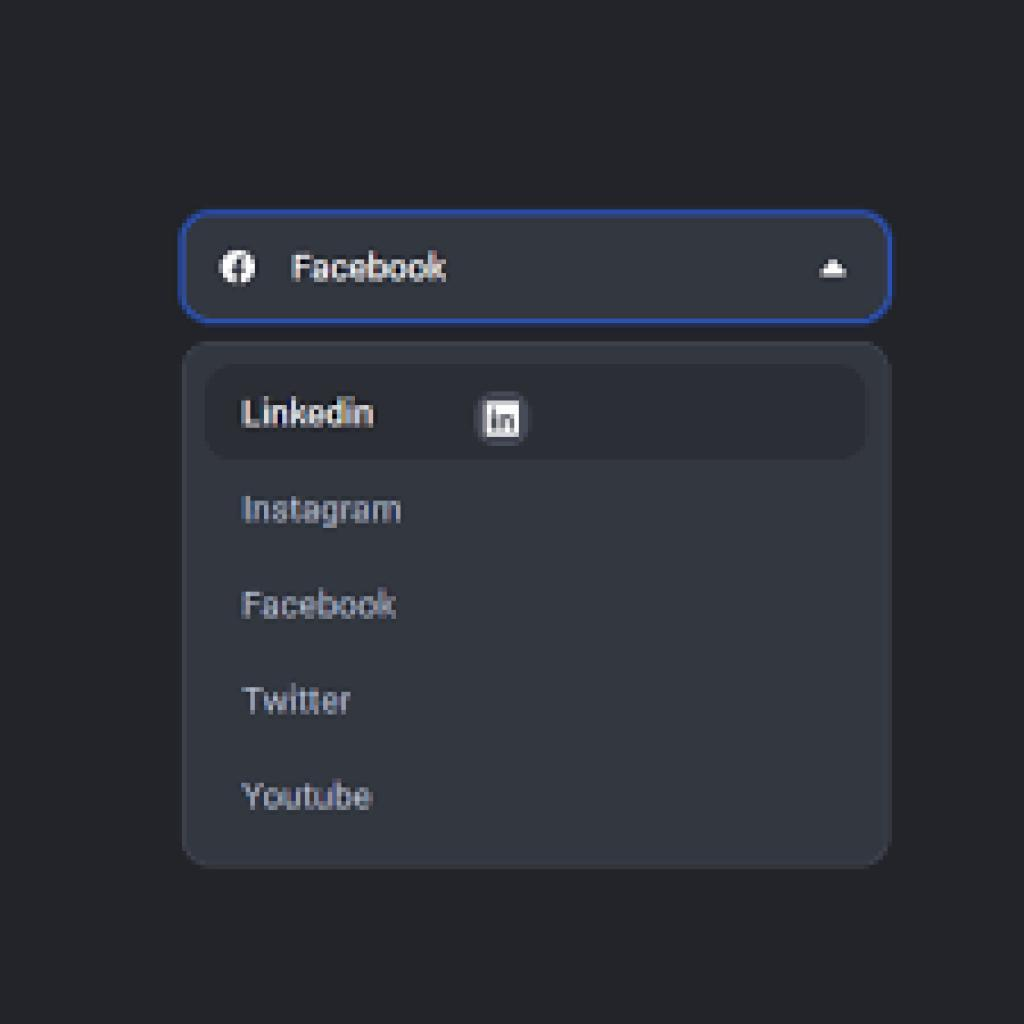dropdown: (186, 212, 892, 323)
